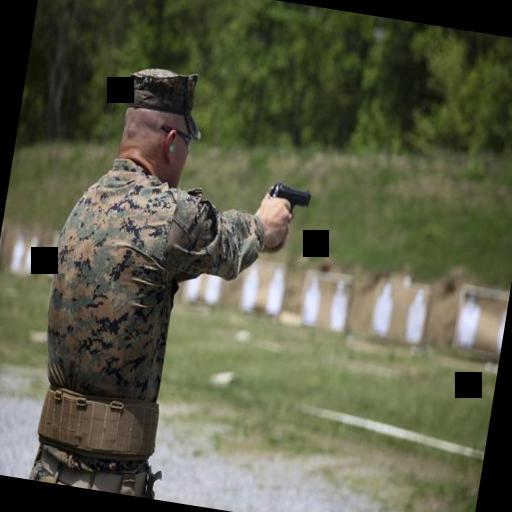Handgun: (261, 178, 312, 224)
